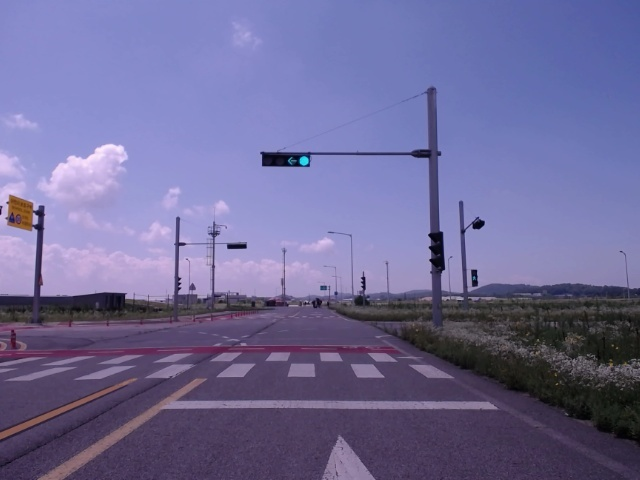all_green_4: (262, 151, 309, 168)
